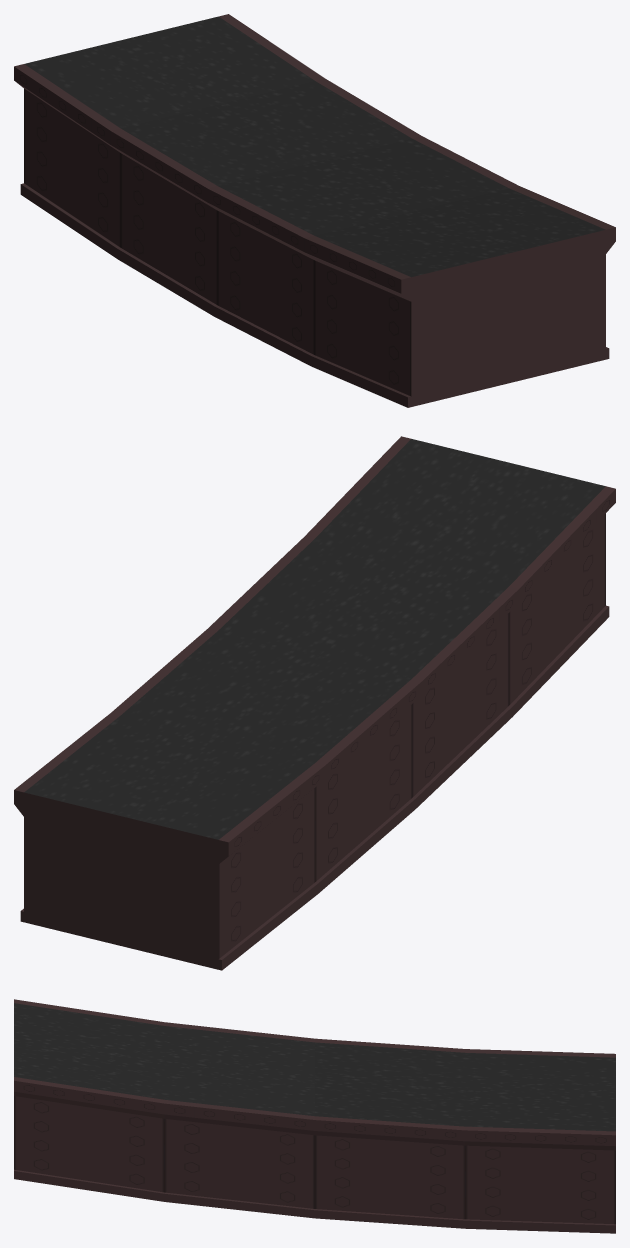
The model's file is SW_ENV_EL_TrackBase_Riser_A_10m.fbx.
3 views of the same model, one above another, from view 1: azimuth 30°, elevation 25°; view 2: azimuth 150°, elevation 25°; view 3: azimuth 270°, elevation 25° (orthographic). The views are drawn at different scales.
Visible parts, largest first — view 1: SW_ENV_EL_TrackBase_Riser_A_10m; view 2: SW_ENV_EL_TrackBase_Riser_A_10m; view 3: SW_ENV_EL_TrackBase_Riser_A_10m.
Boxes of the visible parts, <box> form: SW_ENV_EL_TrackBase_Riser_A_10m: <box>14,14,615,407</box>; SW_ENV_EL_TrackBase_Riser_A_10m: <box>14,436,615,970</box>; SW_ENV_EL_TrackBase_Riser_A_10m: <box>14,999,615,1233</box>.
Size of the model in its own units: 3.2 by 2.85 by 10.
